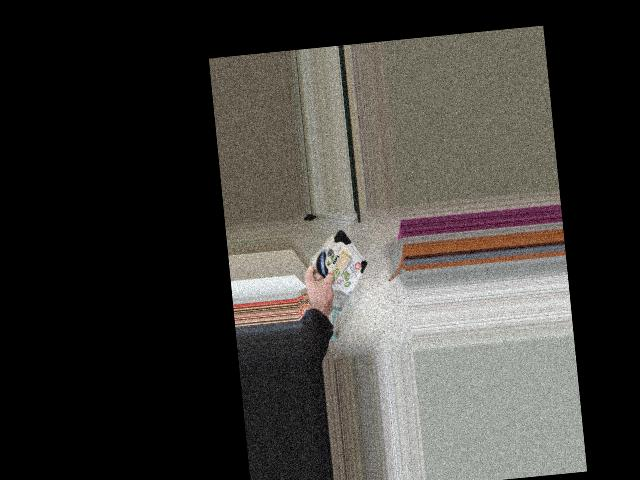cheese: (296, 229, 375, 289)
